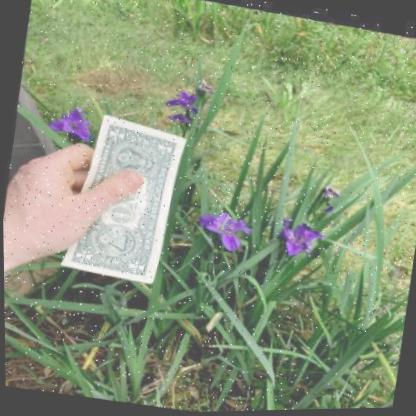dollar_back: (58, 114, 187, 284)
